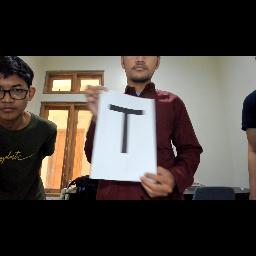t: (106, 102, 146, 158)
